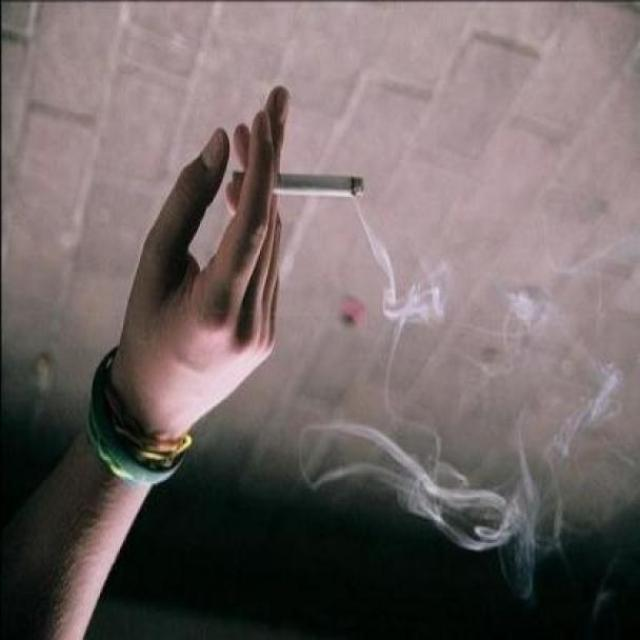rokok: (228, 164, 369, 200)
